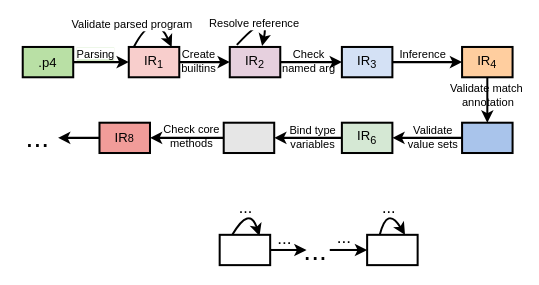
This 539x285 diagram has some shape labels left out. The box of each missing label's shape, as (x1, y1, x2, y2) in pixels:
IR 5: (461, 121, 513, 154)
IR 7: (222, 121, 275, 154)
IR m: (366, 233, 418, 266)
IR n: (218, 233, 271, 266)
